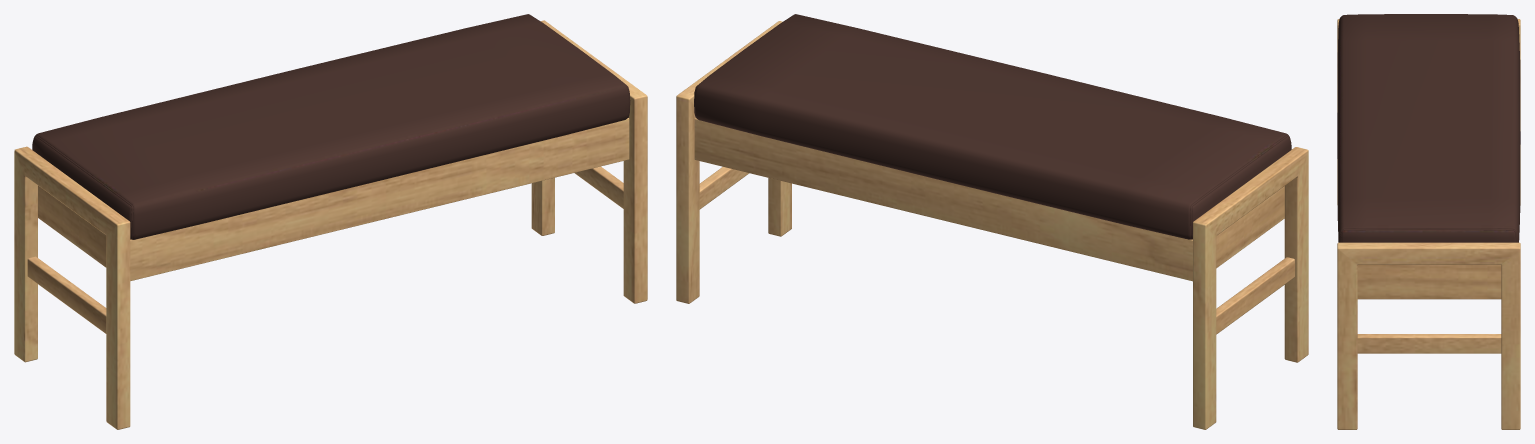
Rendered from B07K7NQR23.glb.
3 renders of one model, left to right at view 1: azimuth 30°, elevation 25°; view 2: azimuth 150°, elevation 25°; view 3: azimuth 270°, elevation 25°, orthographic. The views are drawn at different scales.
Parts seen in each view (by area): view 1: B07K7NQR23; view 2: B07K7NQR23; view 3: B07K7NQR23.
Boxes of the visible parts, box(x1,y1,x2,y2) form: B07K7NQR23: box(14, 14, 647, 429); B07K7NQR23: box(676, 14, 1308, 429); B07K7NQR23: box(1337, 14, 1520, 429).
Bounding box in the file's own units: 1.2 × 0.4798 × 0.4049.
1 material, 1 textured.
